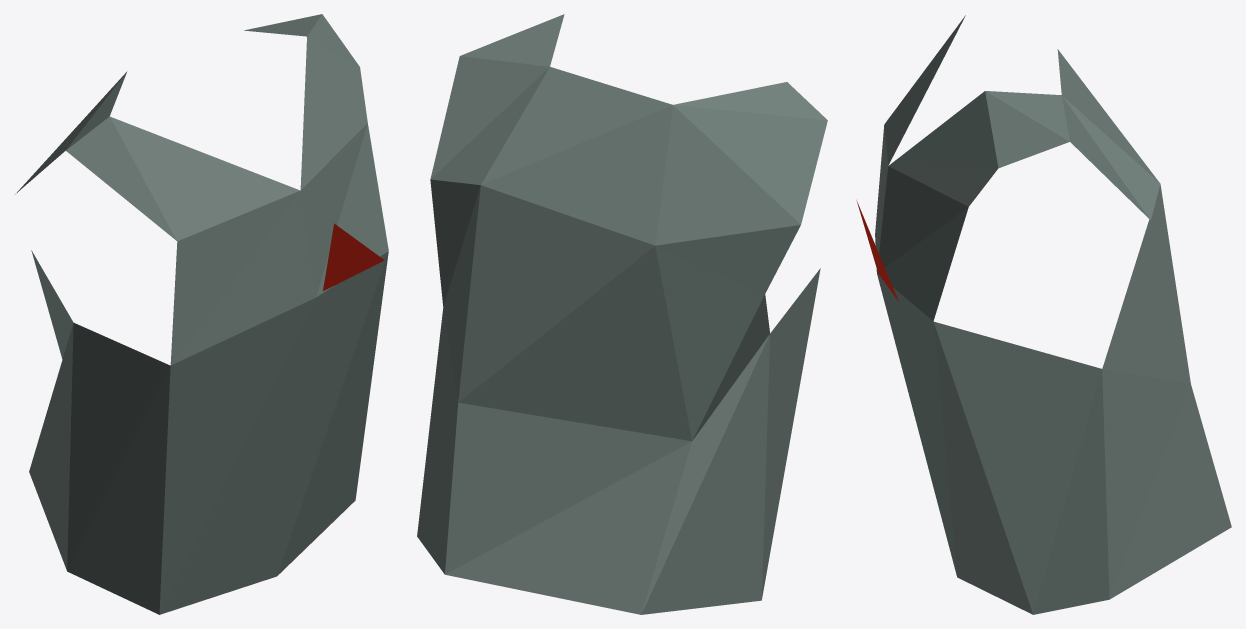
3 renders of one model, left to right at view 1: azimuth 30°, elevation 25°; view 2: azimuth 150°, elevation 25°; view 3: azimuth 270°, elevation 25°, orthographic. The views are drawn at different scales.
Bounding box in the file's own units: 0.5194 × 0.7589 × 0.506.
Materials: 2 (2 with a texture image).
